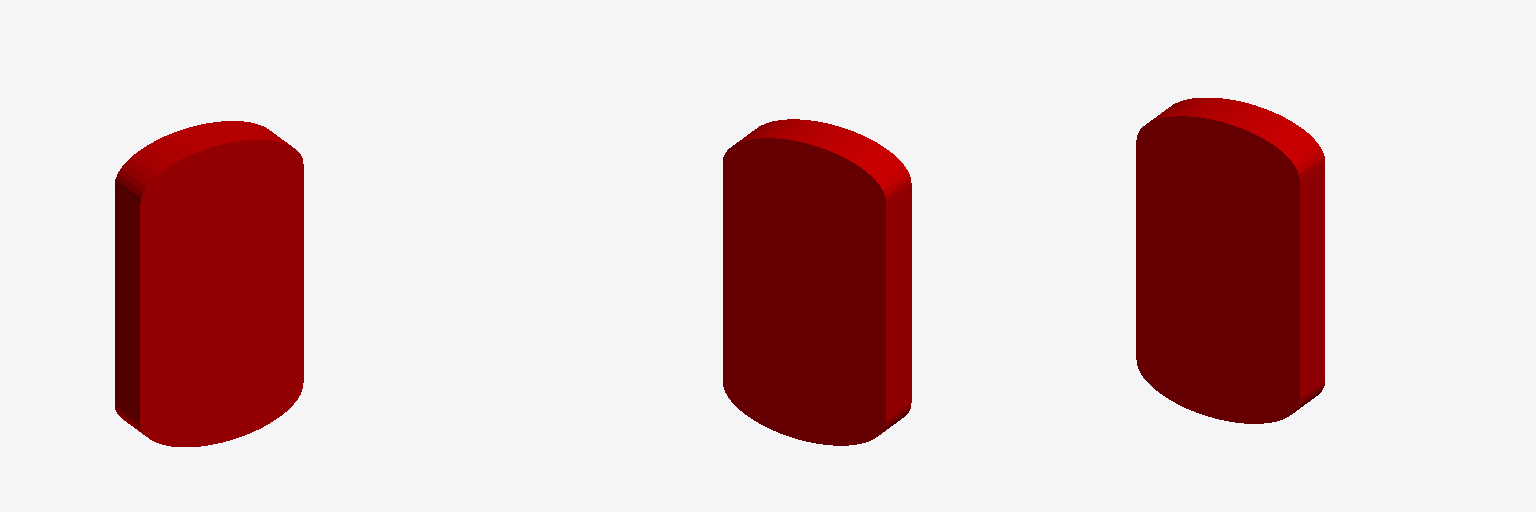
The model's file is chimenea2.obj.
3 views of the same model, side by side, from view 1: azimuth 30°, elevation 25°; view 2: azimuth 150°, elevation 25°; view 3: azimuth 330°, elevation 25° (orthographic).
Visible parts, largest first — view 1: path3840.001; view 2: path3840.001; view 3: path3840.001.
Boxes of the visible parts, x1,y1,x2,y2 form: path3840.001: [115, 121, 303, 446]; path3840.001: [723, 119, 911, 445]; path3840.001: [1136, 98, 1324, 423].
Bounding box in the file's own units: 2.33 × 2.83 × 0.4342.